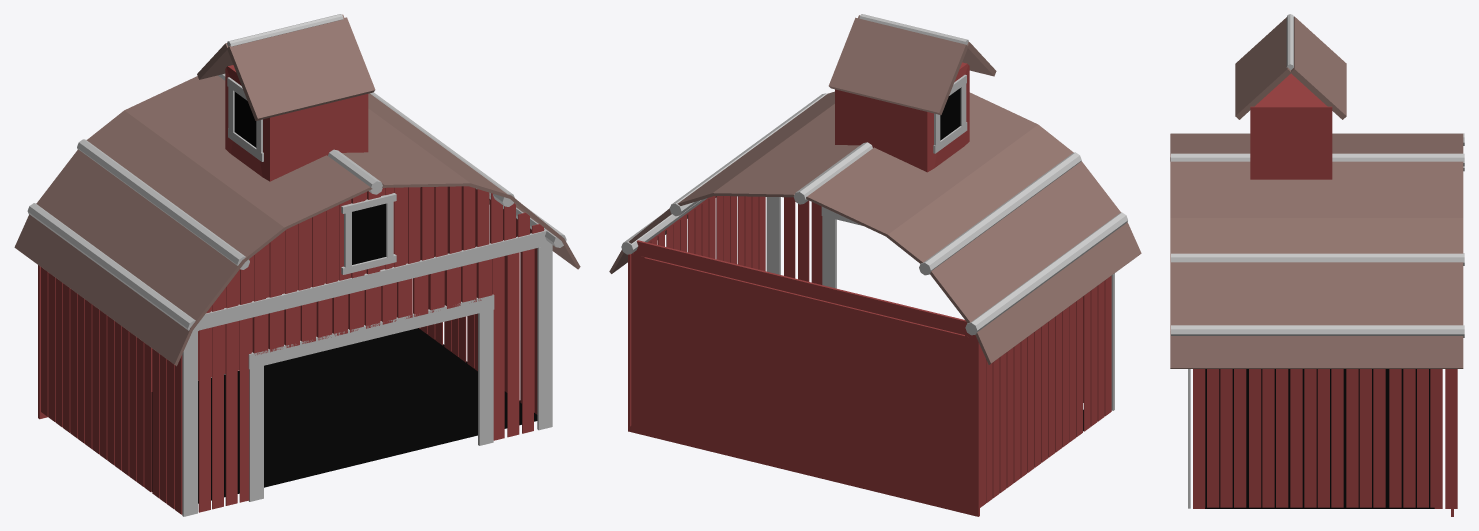
Rendered from farm 1.fbx.
3 renders of one model, left to right at view 1: azimuth 30°, elevation 25°; view 2: azimuth 150°, elevation 25°; view 3: azimuth 270°, elevation 25°, orthographic. The views are drawn at different scales.
Parts seen in each view (by area): view 1: pCube19, pCube46, pCube22, pCube18, pCube20, pCube9, pCube12, pCube8, pCube5, pCube112, pCylinder6, pCylinder5 (+49 smaller); view 2: pCube112, pCube19, pCube21, pCube18, pCube20, pCube15, pCylinder6, pCube14, pCylinder5, pCube8, pCube77, pCube80 (+27 smaller); view 3: pCube18, pCube20, pCube46, pCube19, pCylinder4, pCube21, pCube22, pCylinder3, pCylinder1, pCube93, pCube110, pCube94 (+19 smaller).
Part boxes in pixels (x1,y1,x2,y2): pCube19: (14,75,372,366); pCube46: (151,328,537,503); pCube22: (227,17,375,120); pCube18: (342,93,580,269); pCube20: (225,65,368,196); pCube9: (199,230,551,330); pCube12: (248,294,494,369); pCube8: (537,244,552,430); pCube5: (182,331,197,516); pCube112: (38,187,407,419); pCylinder6: (27,203,200,333); pCylinder5: (77,139,249,269); pCube112: (628,254,979,516); pCube19: (806,92,1141,364); pCube21: (828,17,967,114); pCube18: (609,91,859,273); pCube20: (835,62,969,172); pCube15: (633,240,975,337); pCylinder6: (965,212,1127,335); pCube14: (631,254,644,428); pCylinder5: (919,152,1081,275); pCube8: (766,197,780,274); pCube77: (1006,347,1013,487); pCube80: (1027,332,1034,472); pCube18: (1170,161,1463,368); pCube20: (1250,73,1332,179); pCube46: (1205,369,1434,508); pCube19: (1170,133,1463,161); pCylinder4: (1171,325,1464,337); pCube21: (1290,16,1346,119); pCube22: (1235,17,1290,119); pCylinder3: (1171,253,1464,265); pCylinder1: (1171,153,1464,166); pCube93: (1193,369,1205,508); pCube110: (1430,369,1442,508); pCube94: (1207,369,1219,507).
Size of the model in its own units: 3.45 by 3.39 by 2.37.
